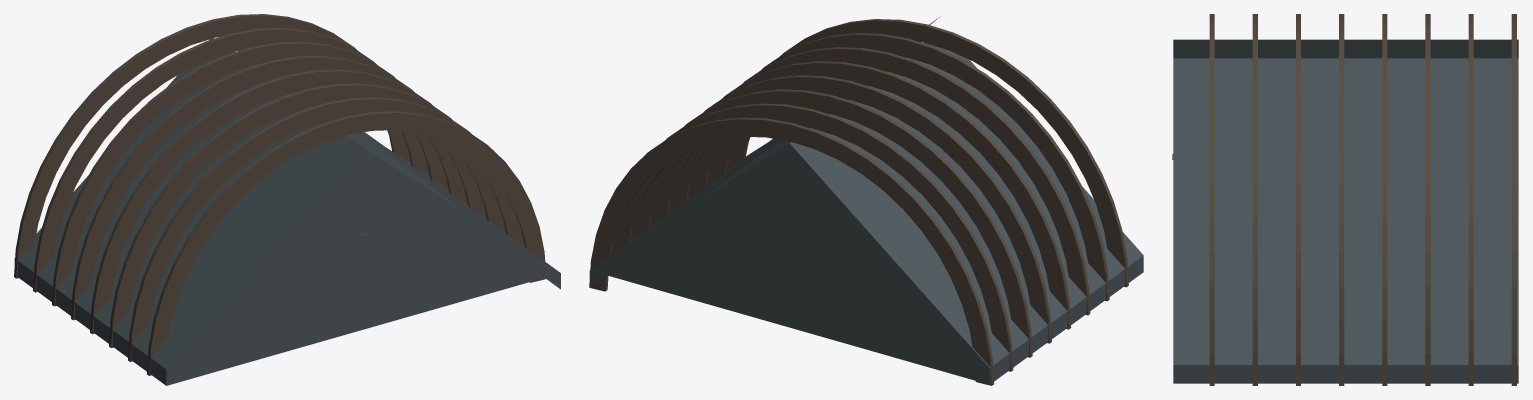
File: sawtooth-roof-3.glb
3 renders of one model, left to right at view 1: azimuth 30°, elevation 25°; view 2: azimuth 150°, elevation 25°; view 3: azimuth 270°, elevation 25°, orthographic. The views are drawn at different scales.
Visible parts, largest first — view 1: sawtooth-roof/2/KR-230-3; view 2: sawtooth-roof/2/KR-230-3; view 3: sawtooth-roof/2/KR-230-3.
Part boxes in pixels (box(x1,y1,x2,y2)): sawtooth-roof/2/KR-230-3: box(14, 14, 560, 385); sawtooth-roof/2/KR-230-3: box(589, 16, 1143, 385); sawtooth-roof/2/KR-230-3: box(1172, 14, 1518, 385).
Size of the model in its own units: 12.08 by 6.08 by 8.02.
